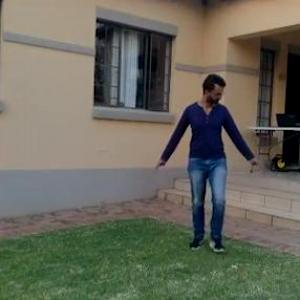land: (146, 65, 267, 264)
